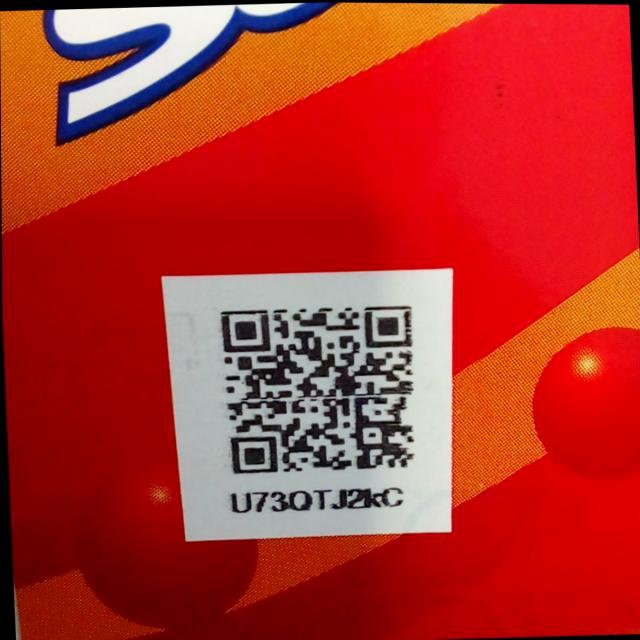QRCode: (213, 294, 425, 483)
